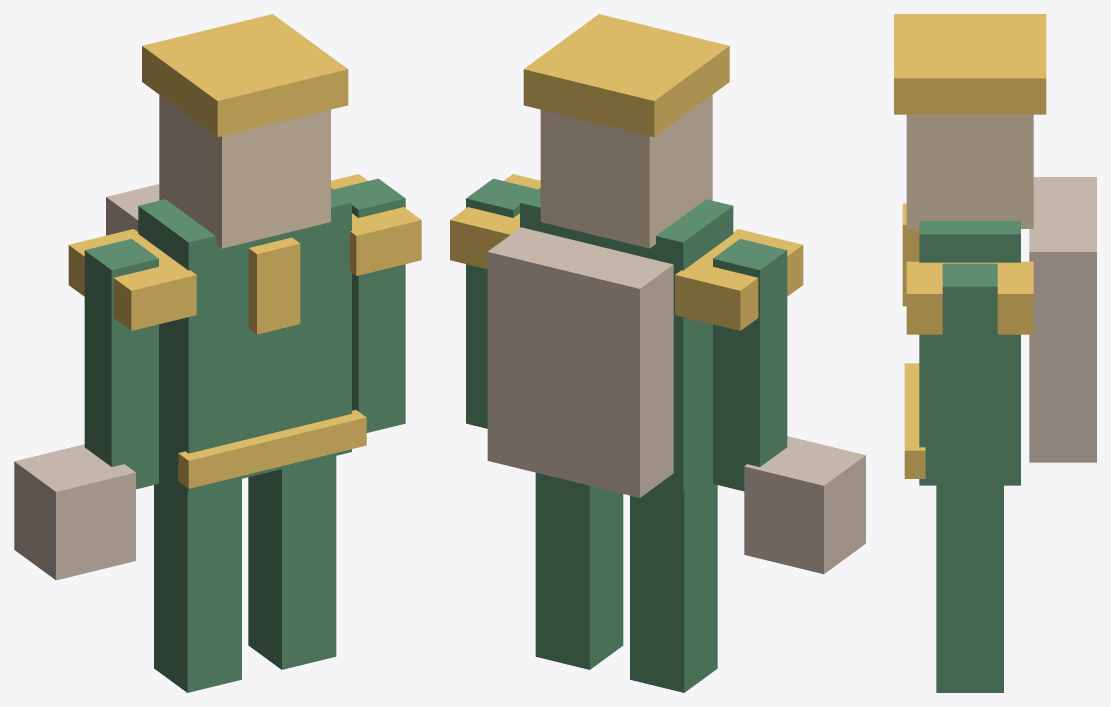
The model's file is 01_lio_riftwalker_smith_from_ancient.glb.
The picture shows the model from 3 angles, left to right: view 1: azimuth 30°, elevation 25°; view 2: azimuth 150°, elevation 25°; view 3: azimuth 270°, elevation 25°; orthographic projection.
Visible parts, largest first — view 1: Lio Riftwalker, Smith from Ancient; view 2: Lio Riftwalker, Smith from Ancient; view 3: Lio Riftwalker, Smith from Ancient.
Part boxes in pixels (box(x1,y1,x2,y2)): Lio Riftwalker, Smith from Ancient: box(14, 14, 421, 692); Lio Riftwalker, Smith from Ancient: box(450, 14, 865, 692); Lio Riftwalker, Smith from Ancient: box(894, 14, 1096, 692).
Size of the model in its own units: 1.02 by 1.63 by 0.4906.
